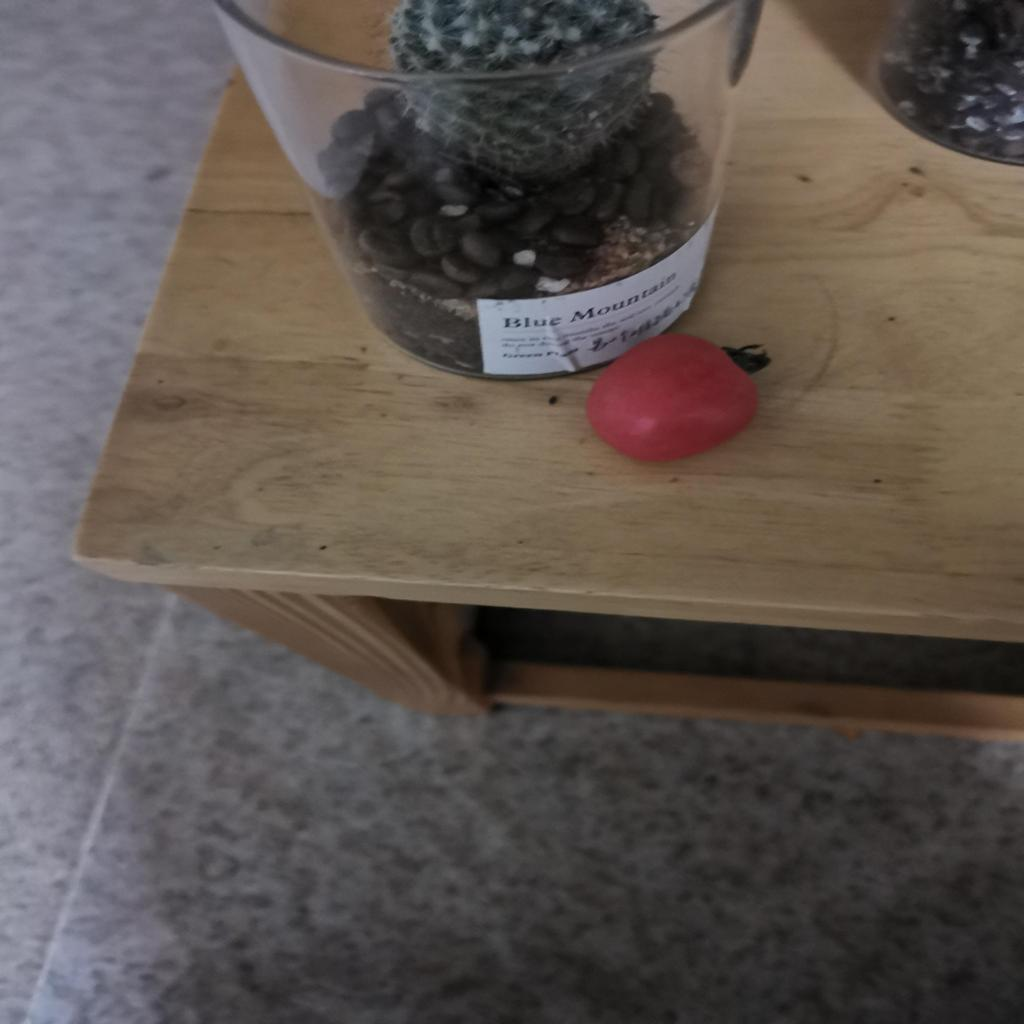tomato: (590, 330, 769, 462)
